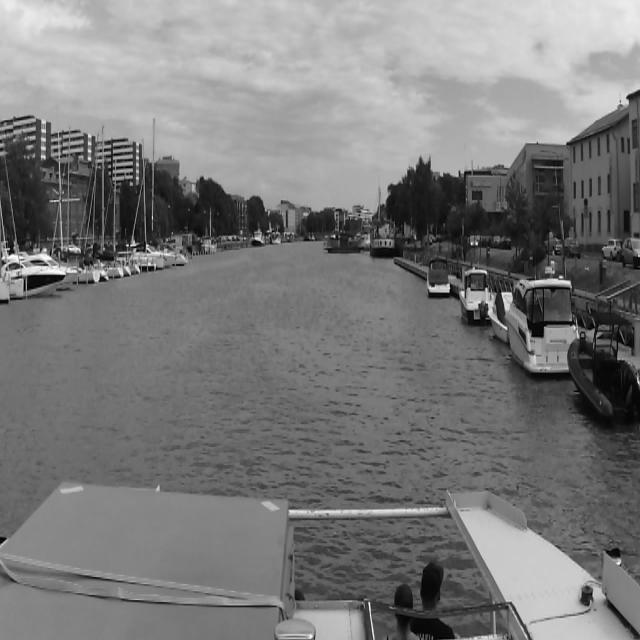ship: (508, 274, 578, 377), (141, 119, 189, 267), (55, 132, 97, 286), (572, 333, 637, 426), (99, 127, 131, 277), (132, 140, 167, 268), (1, 244, 68, 296), (459, 268, 487, 320), (319, 228, 367, 254), (488, 288, 506, 343), (427, 258, 451, 295), (371, 221, 395, 256), (251, 231, 265, 246), (203, 238, 217, 252), (272, 232, 280, 244), (303, 235, 311, 241), (290, 235, 294, 242), (311, 235, 315, 241)
